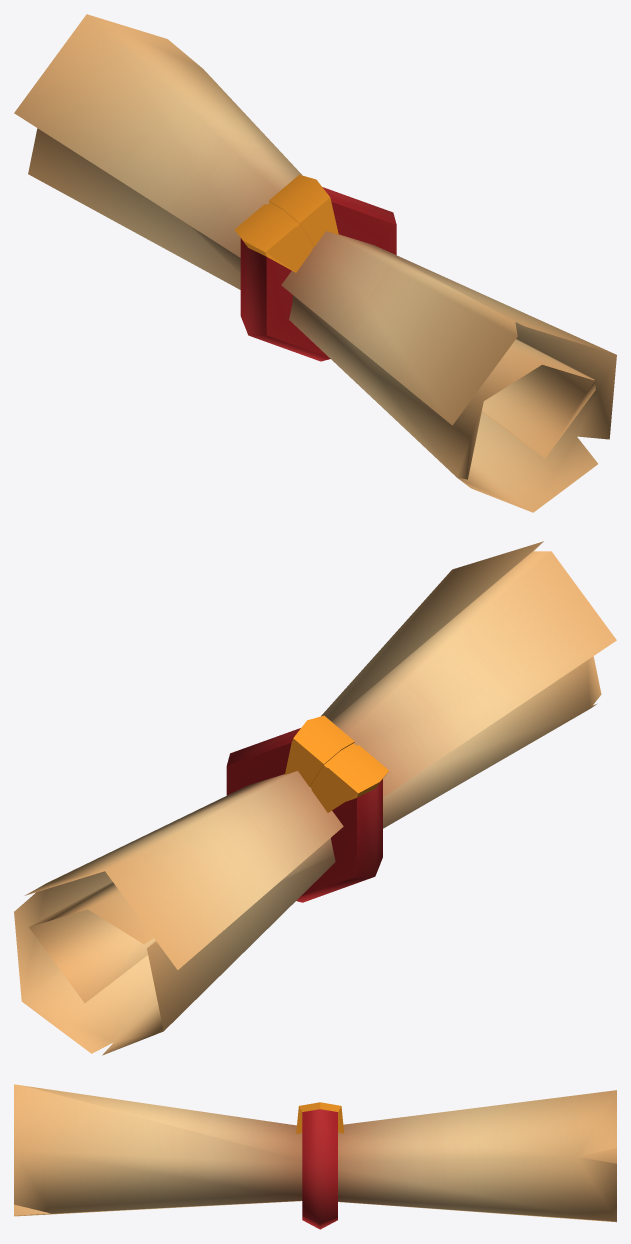
Rendered from Letter.fbx.
The picture shows the model from 3 angles, top to bottom: view 1: azimuth 30°, elevation 25°; view 2: azimuth 150°, elevation 25°; view 3: azimuth 270°, elevation 25°; orthographic projection. The views are drawn at different scales.
Parts seen in each view (by area): view 1: Plane001; view 2: Plane001; view 3: Plane001.
Boxes of the visible parts, <box> form: Plane001: <box>14,14,616,512</box>; Plane001: <box>14,541,616,1055</box>; Plane001: <box>14,1084,616,1229</box>.
Bounding box in the file's own units: 0.6376 × 0.7497 × 2.94.
Materials: 1 (1 with a texture image).
